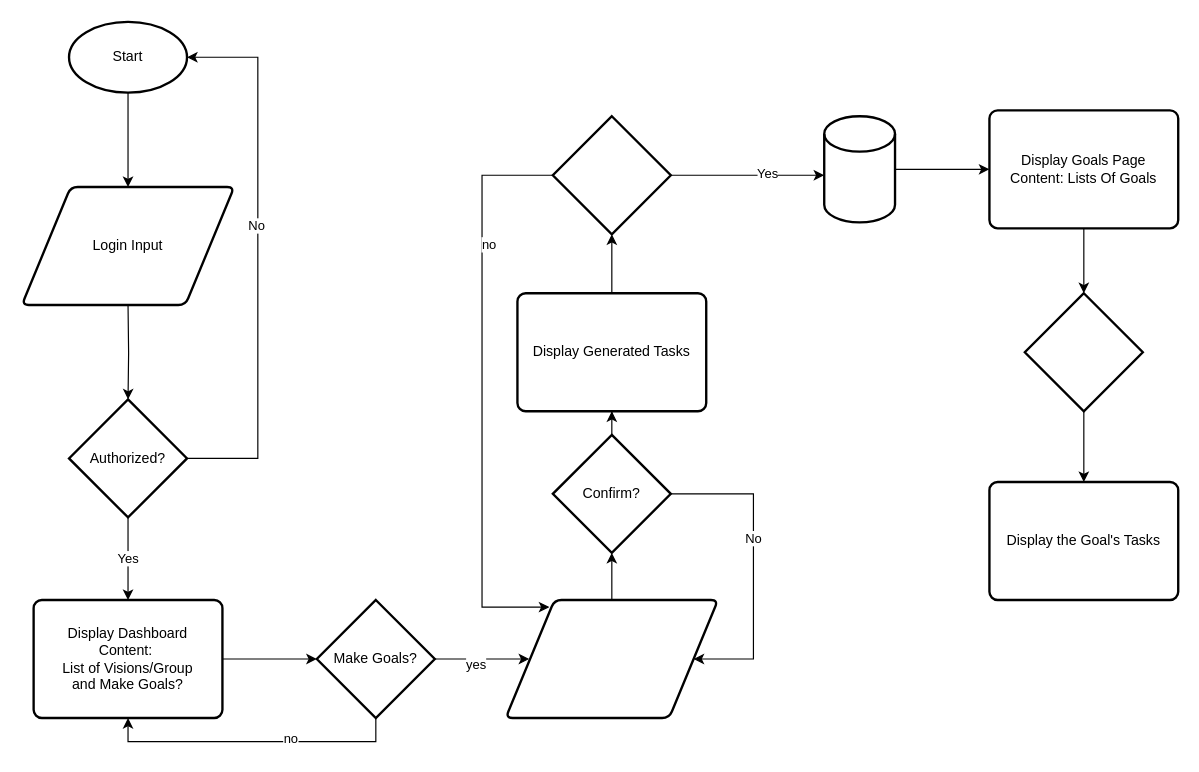
Image size: 1199x772. Some labels were removed from this diagram. Each missing label, with the centre of its shape:
Accept Task ?: the point at 611,174
add to table: the point at 859,168
Click a Goal: the point at 1083,351
Input Vision/Grouping Input Prompt (Guided): the point at 611,658
